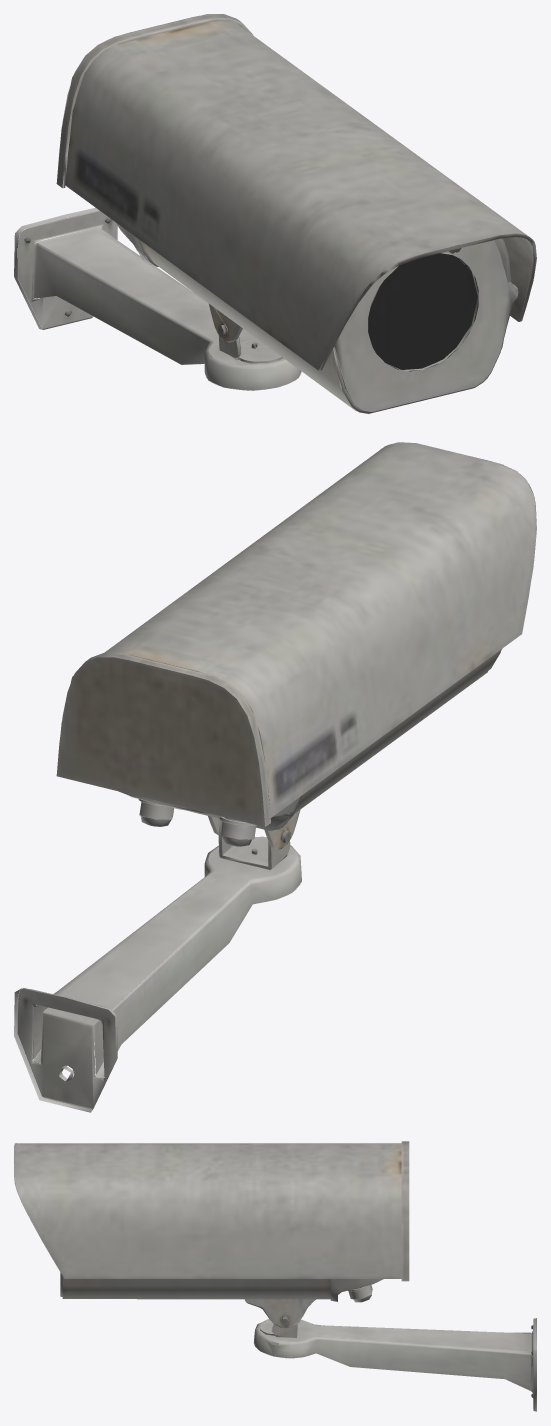
File: security_camera_01.glb
3 views of the same model, one above another, from view 1: azimuth 30°, elevation 25°; view 2: azimuth 150°, elevation 25°; view 3: azimuth 270°, elevation 25° (orthographic). The views are drawn at different scales.
Visible parts, largest first — view 1: security_camera_01; view 2: security_camera_01; view 3: security_camera_01.
Part boxes in pixels (left/top/right/bottom): security_camera_01: left=14, top=14, right=536, bottom=413; security_camera_01: left=14, top=442, right=536, bottom=1112; security_camera_01: left=14, top=1141, right=536, bottom=1411.
Size of the model in its own units: 0.1695 by 0.286 by 0.5537.
2 materials, 2 textured.
